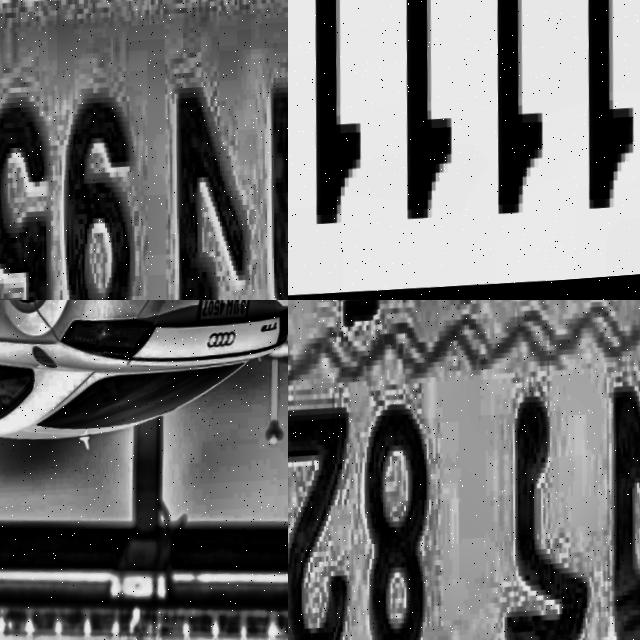license-plate: (288, 300, 640, 640), (288, 0, 640, 300), (0, 0, 288, 300), (192, 300, 251, 334)
